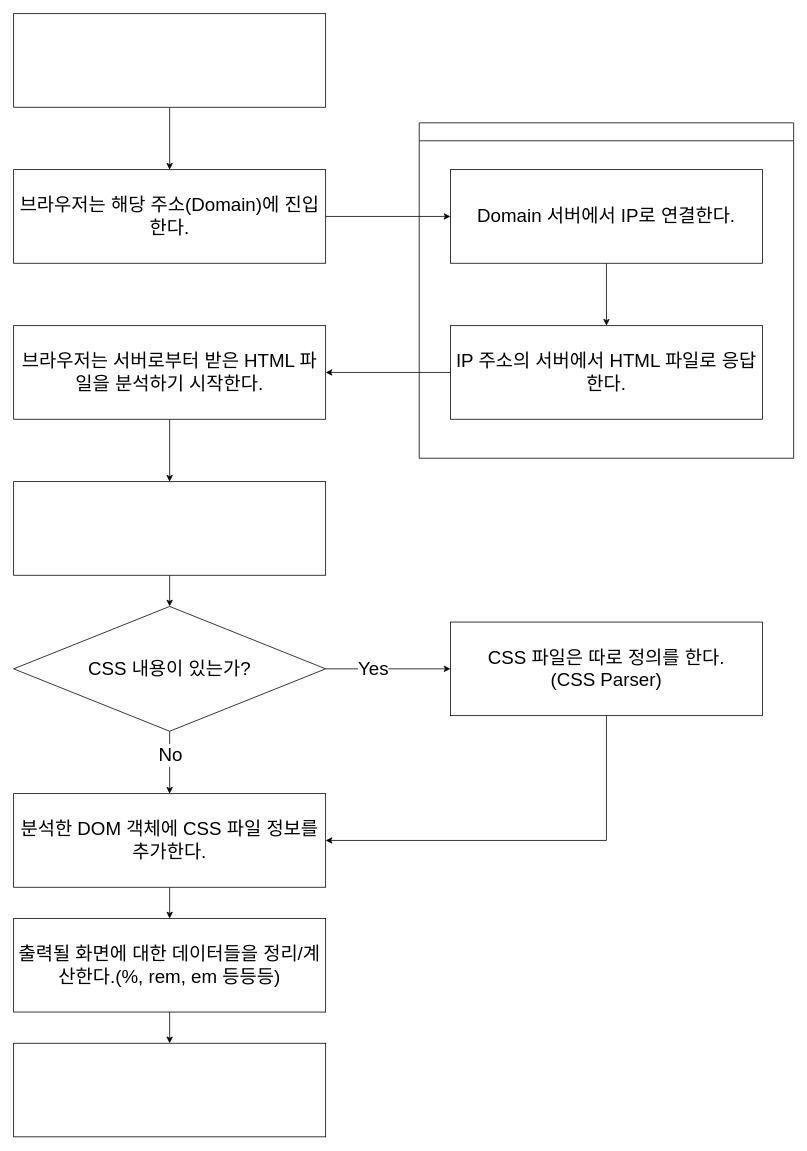
The diagram is 807 pixels wide and 1151 high, and some of its shapes have lost their labels. Here are the shapes that lost their labels. From the top down, the centre of each, then its label:
At pixel 169 60: "웹페이지에 접근(브라우저로 웹사이트에 들어간다)".
At pixel 606 290: "Server".
At pixel 169 528: "분석한 파일을 DOM 객체에 프로퍼티로 정의한다.(HTML 파일의 구조만을 저장한다.)".
At pixel 169 1089: "랜더링/printing".
